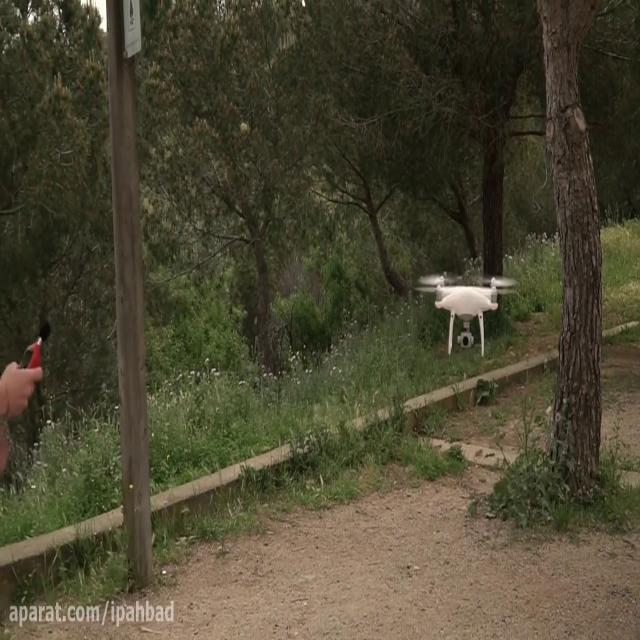drone: (414, 271, 518, 357)
